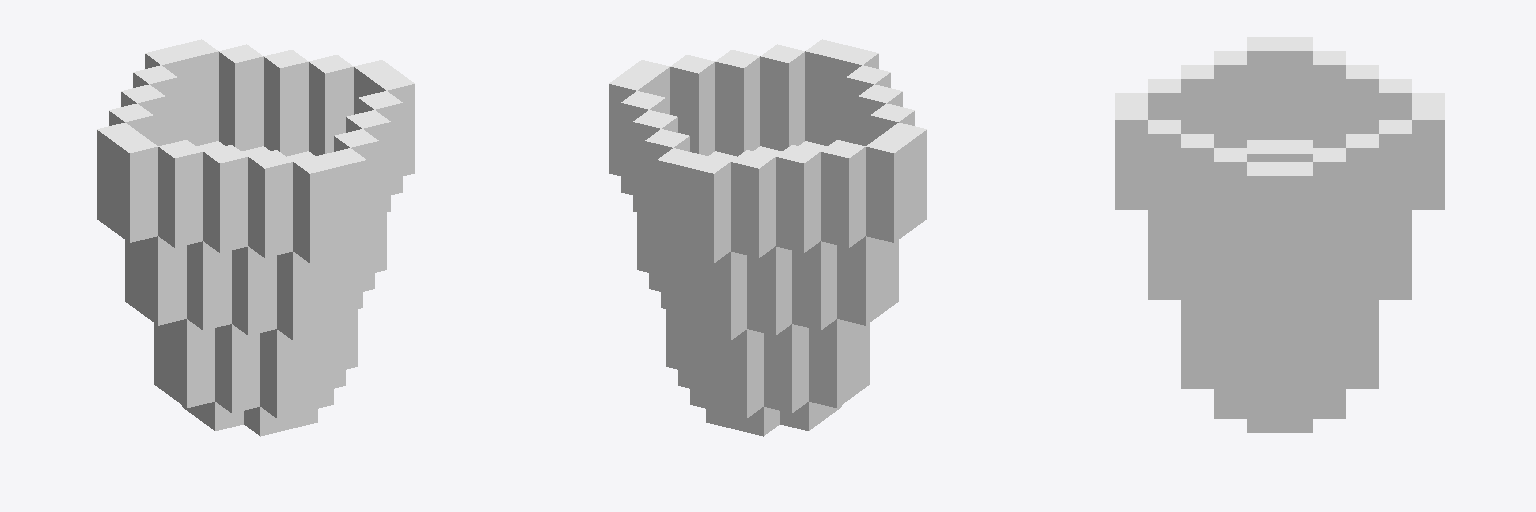
File: Crucible01.obj
The picture shows the model from 3 angles: view 1: azimuth 30°, elevation 25°; view 2: azimuth 150°, elevation 25°; view 3: azimuth 270°, elevation 25°; orthographic projection.
Visible parts, largest first — view 1: object 1; view 2: object 1; view 3: object 1.
Boxes of the visible parts, x1=… form: object 1: x1=97, y1=39, x2=414, y2=436; object 1: x1=609, y1=39, x2=926, y2=436; object 1: x1=1115, y1=37, x2=1444, y2=432.
Bounding box in the file's own units: 1 × 1 × 1.